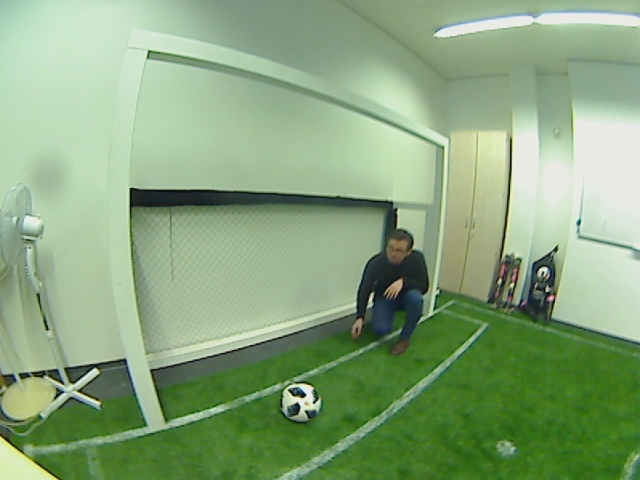ball: (280, 380, 321, 424)
